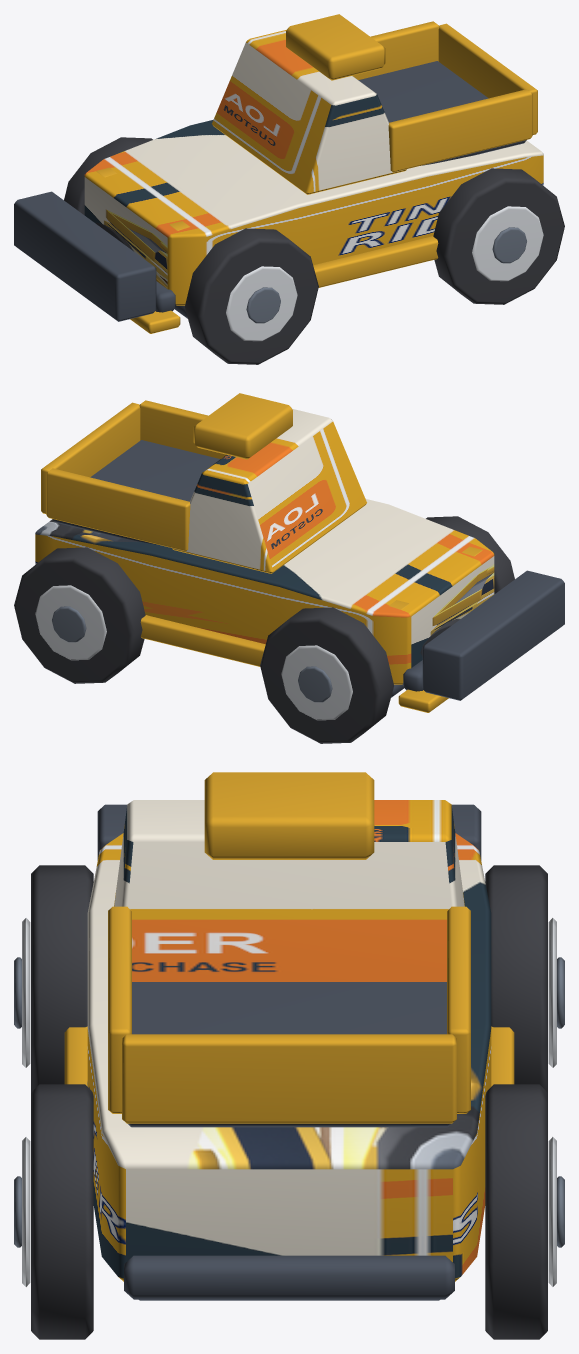
The picture shows the model from 3 angles, top to bottom: view 1: azimuth 30°, elevation 25°; view 2: azimuth 150°, elevation 25°; view 3: azimuth 270°, elevation 25°; orthographic projection. The views are drawn at different scales.
Parts seen in each view (by area): view 1: WY-05_connected_shell, WY-05_cabin, loader bucket, Tire, Tire.002, cargo side, cargo floor, custom equipment, cargo tail, Rim.002, Rim, custom side guard (+6 smaller); view 2: WY-05_connected_shell, WY-05_cabin, loader bucket, Tire.001, Tire.003, cargo side.001, cargo floor, custom equipment, cargo tail, Rim.003, Rim.001, custom side guard.001 (+6 smaller); view 3: WY-05_connected_shell, WY-05_cabin, cargo tail, cargo floor, Tire.002, Tire.003, custom equipment, rear bumper, Tire, Tire.001, cargo side, cargo side.001 (+7 smaller).
Boxes of the visible parts, <box> form: WY-05_connected_shell: <box>84,120,543,305</box>; WY-05_cabin: <box>212,29,406,194</box>; loader bucket: <box>14,191,156,321</box>; Tire: <box>185,228,318,364</box>; Tire.002: <box>433,168,564,304</box>; cargo side: <box>388,89,532,172</box>; cargo floor: <box>358,61,526,165</box>; custom equipment: <box>286,14,385,80</box>; cargo tail: <box>438,23,537,134</box>; Rim.002: <box>472,206,543,281</box>; Rim: <box>226,266,297,341</box>; custom side guard: <box>313,236,438,287</box>; WY-05_connected_shell: <box>35,499,494,684</box>; WY-05_cabin: <box>172,408,366,573</box>; loader bucket: <box>422,570,564,700</box>; Tire.001: <box>260,607,393,743</box>; Tire.003: <box>14,547,145,683</box>; cargo side.001: <box>46,468,190,551</box>; cargo floor: <box>52,440,220,544</box>; custom equipment: <box>193,393,292,459</box>; cargo tail: <box>41,402,140,513</box>; Rim.003: <box>35,585,106,660</box>; Rim.001: <box>281,645,352,720</box>; custom side guard.001: <box>140,615,265,666</box>; WY-05_connected_shell: <box>87,833,491,1281</box>; WY-05_cabin: <box>114,800,464,981</box>; cargo tail: <box>122,1034,456,1123</box>; cargo floor: <box>127,982,451,1127</box>; Tire.002: <box>31,1084,93,1339</box>; Tire.003: <box>485,1084,547,1339</box>; custom equipment: <box>204,772,374,859</box>; rear bumper: <box>124,1255,454,1299</box>; Tire: <box>31,865,93,1092</box>; Tire.001: <box>485,865,547,1092</box>; cargo side: <box>108,906,131,1113</box>; cargo side.001: <box>447,906,470,1113</box>.
Size of the model in its own units: 389 by 203 by 228.
